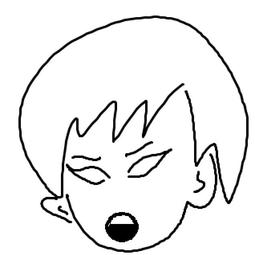ear: (32, 191, 82, 228)
empty_eye: (125, 145, 174, 180), (65, 161, 111, 186)
eyebrow: (68, 151, 102, 164)
frowning_eyebrow: (124, 136, 158, 157)
large_ear: (181, 147, 231, 220)
open_mouth: (98, 210, 142, 247)
